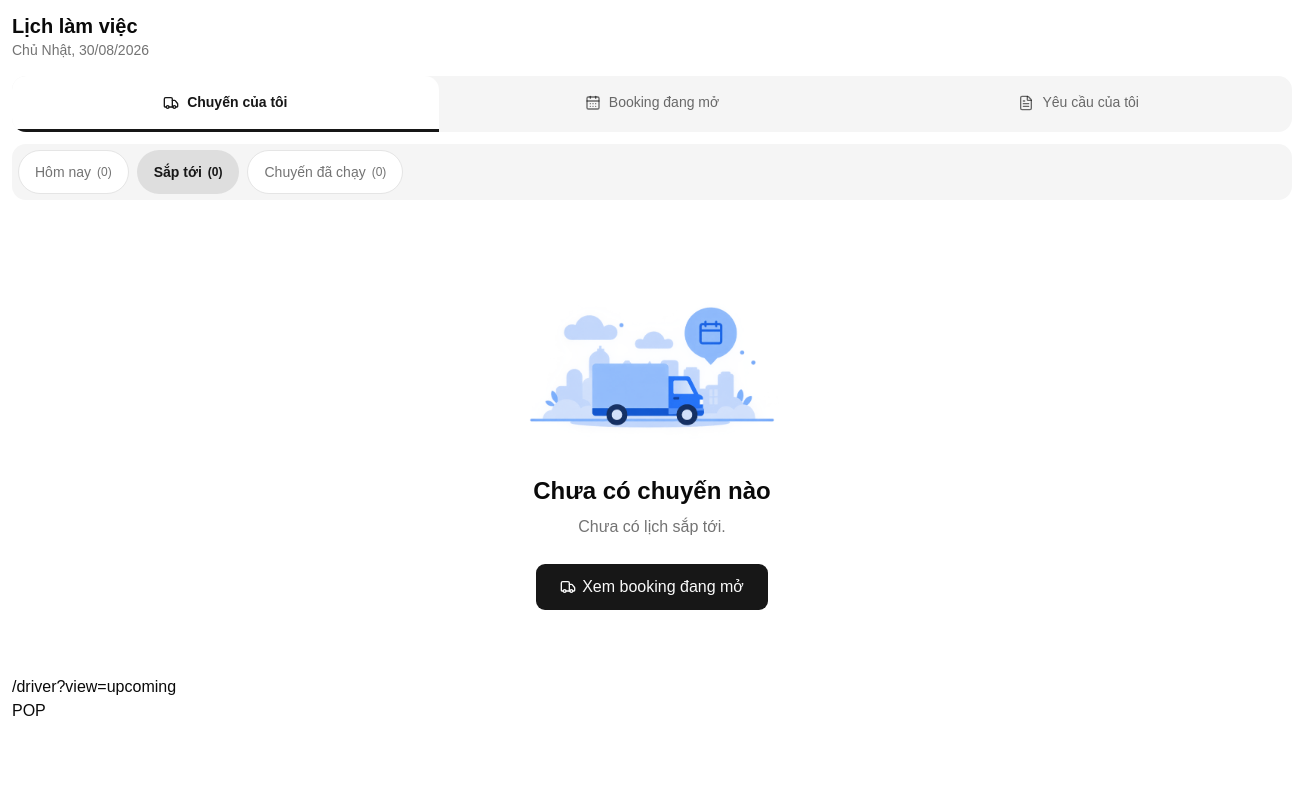
Test: ★ the work schedule — the tabs themselves › ★ nothing to drive › ★ the way out of an empty week is to ask for work (0035), not another day
This screenshot has width=1304, height=812.
Click the button "Xem booking đang mở": (652, 587) x1=535 y1=563 x2=769 y2=611
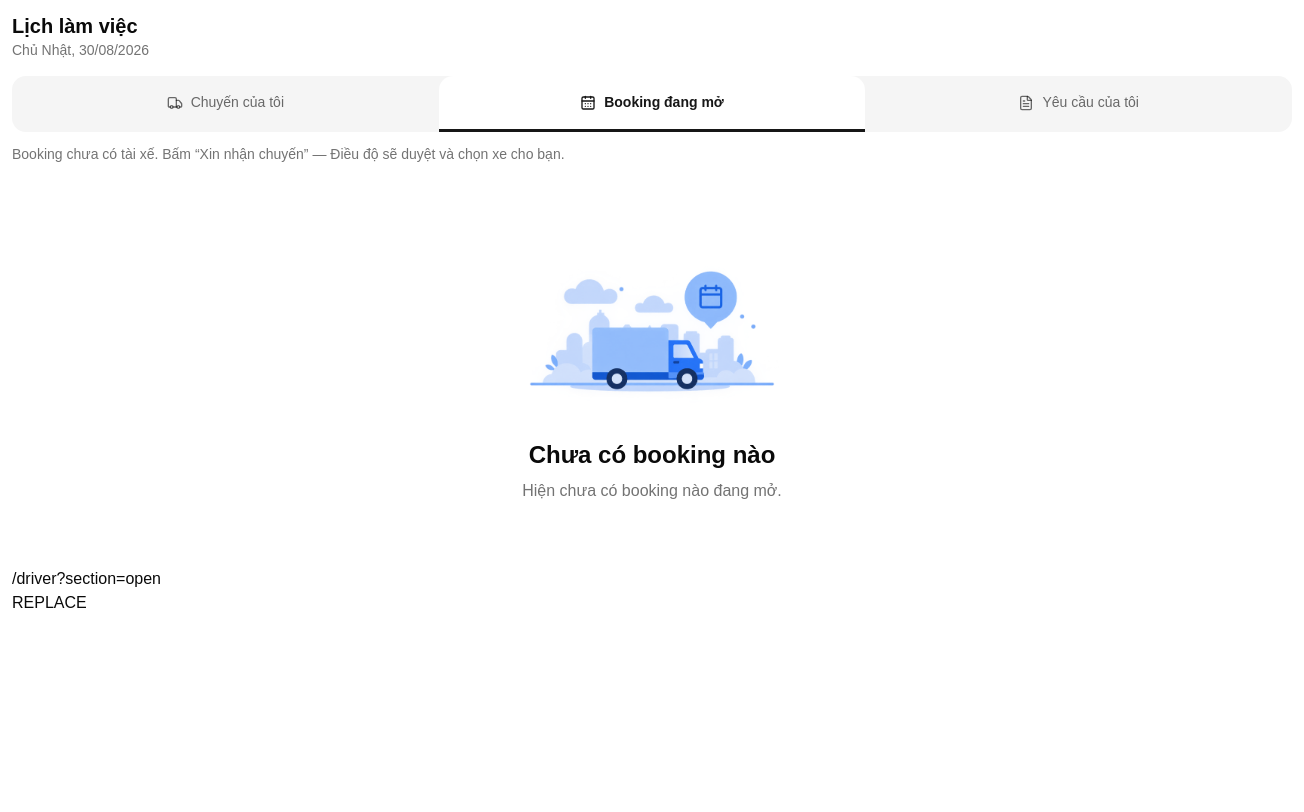
expect the text with test id "location" reads "/driver?section=open": met, box x1=12 y1=570 x2=161 y2=587
